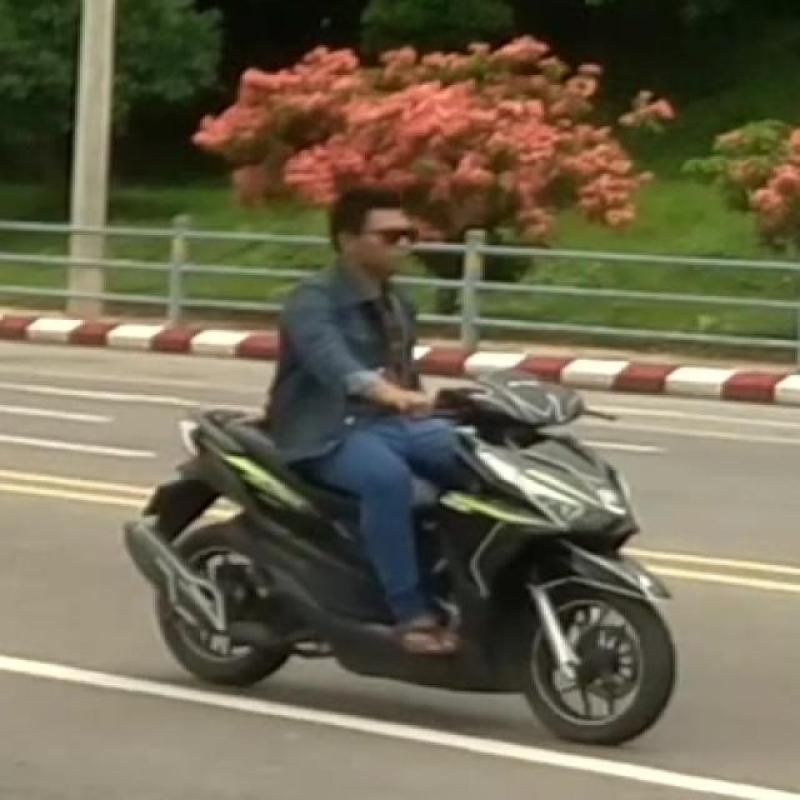nohelmet: (302, 156, 429, 282)
